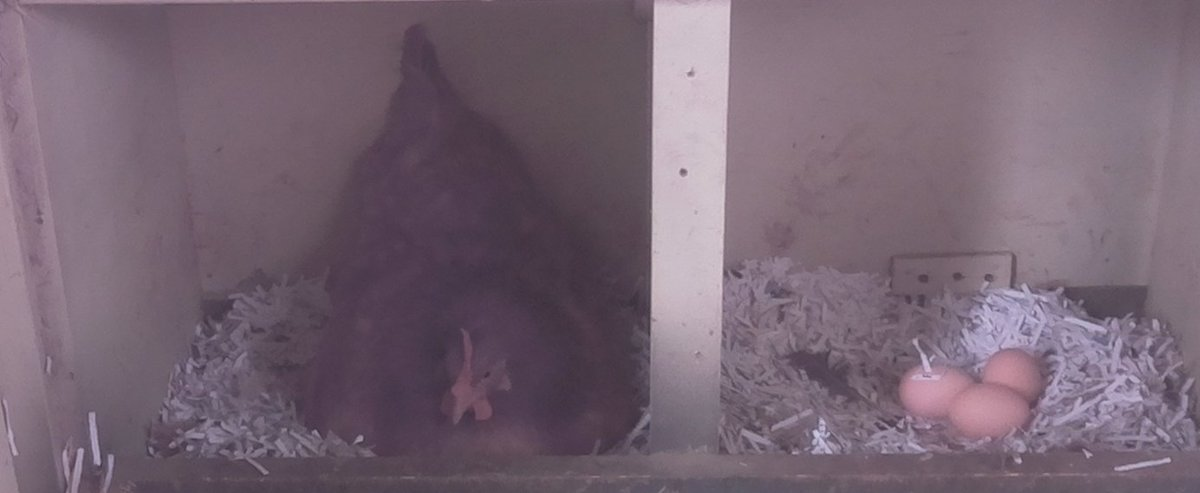egg: (948, 376, 1034, 442), (975, 343, 1051, 411), (892, 360, 975, 418)
hen: (295, 38, 638, 450)
